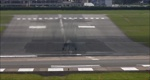maybay_muctieu: (54, 35, 82, 52)
